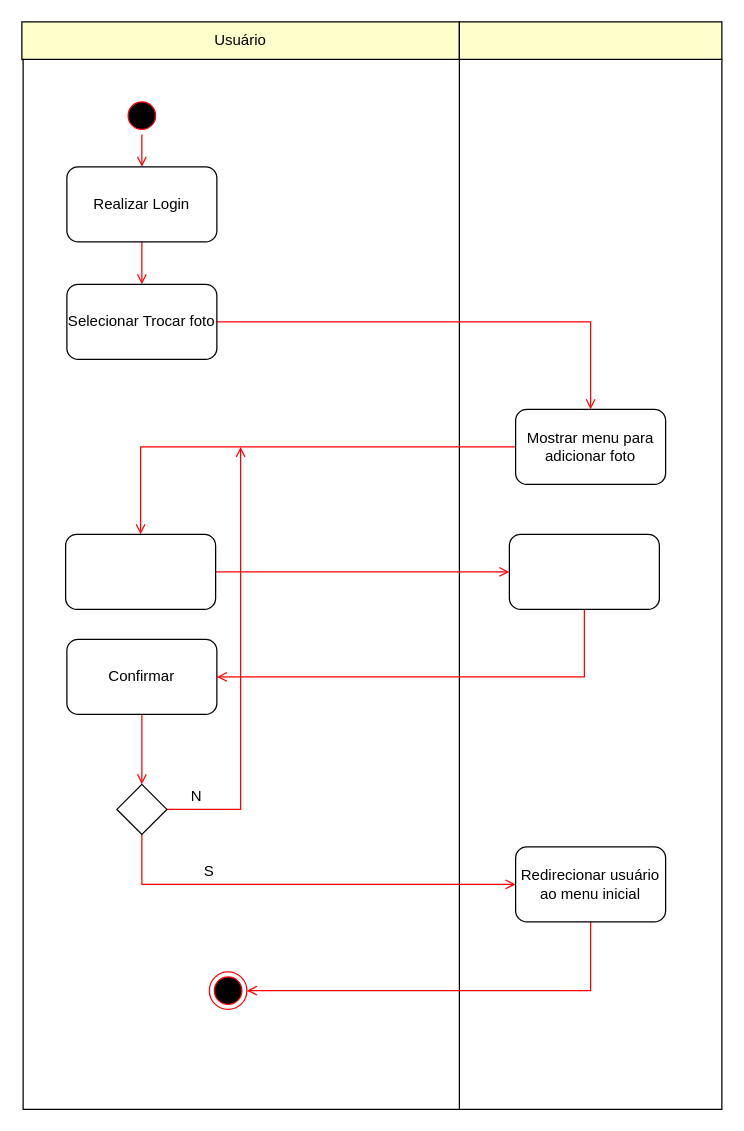
Image size: 744x1131. Some labels were removed from this diagram. The centre of each missing label's shape, as x and y in pixels:
"Escolher Foto" goes at (x=140, y=571).
"MEEPS" goes at (x=590, y=40).
"Perguntar ao usuário se é a foto desejada" goes at (x=583, y=571).
